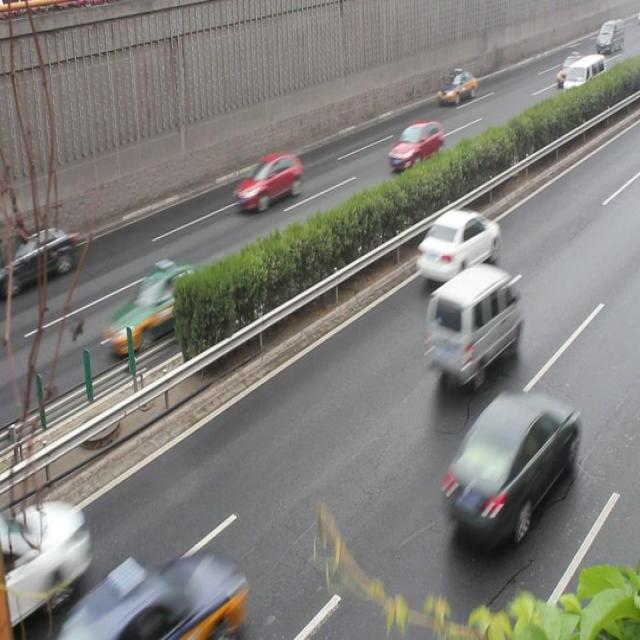car: (441, 389, 574, 544), (71, 547, 237, 640), (104, 264, 216, 350), (416, 206, 498, 282), (12, 224, 75, 288), (234, 153, 302, 211), (388, 120, 443, 170), (436, 68, 476, 109)
truck: (423, 263, 519, 382), (561, 52, 605, 109)
